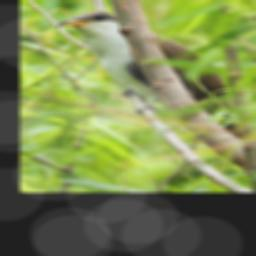Cuckoo: (49, 10, 256, 152)
